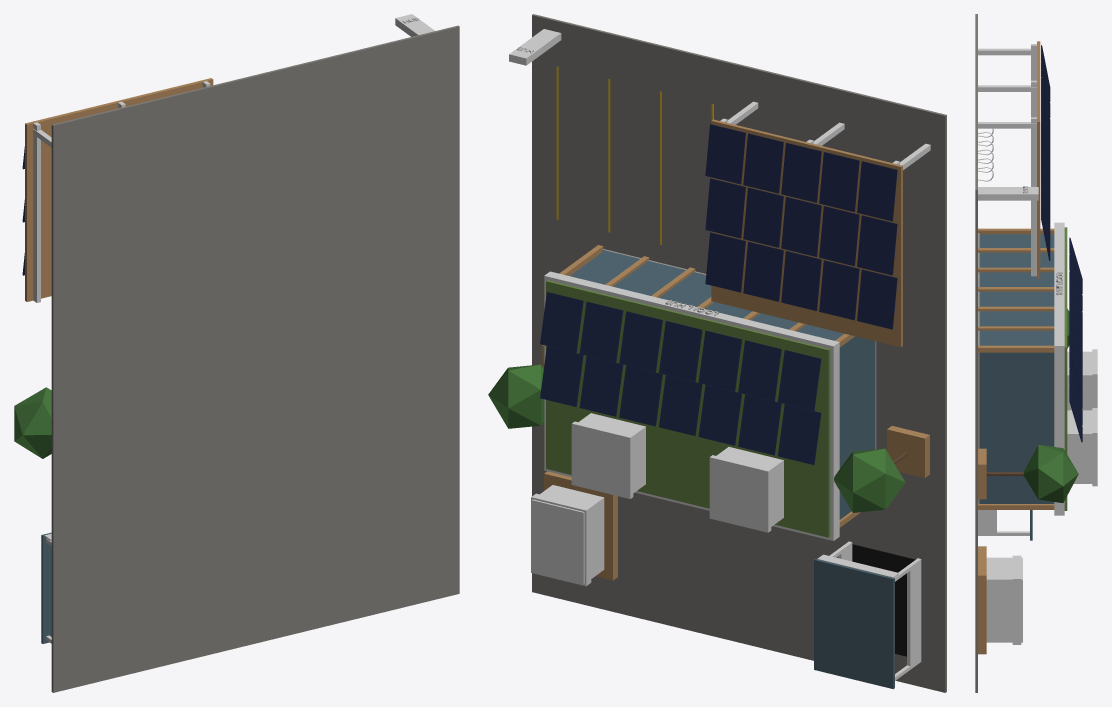
File: SolarpunkLocalHubUnderground01.fbx
3 renders of one model, left to right at view 1: azimuth 30°, elevation 25°; view 2: azimuth 150°, elevation 25°; view 3: azimuth 270°, elevation 25°, orthographic. The views are drawn at different scales.
Parts seen in each view (by area): view 1: SolarpunkLocalHubUnderground01; view 2: SolarpunkLocalHubUnderground01; view 3: SolarpunkLocalHubUnderground01.
Part boxes in pixels (x1,y1,x2,y2): SolarpunkLocalHubUnderground01: (14,14,459,692); SolarpunkLocalHubUnderground01: (488,14,946,692); SolarpunkLocalHubUnderground01: (975,14,1097,692).
Bounding box in the file's own units: 2400 × 3200 × 705.
1 material, 1 textured.
